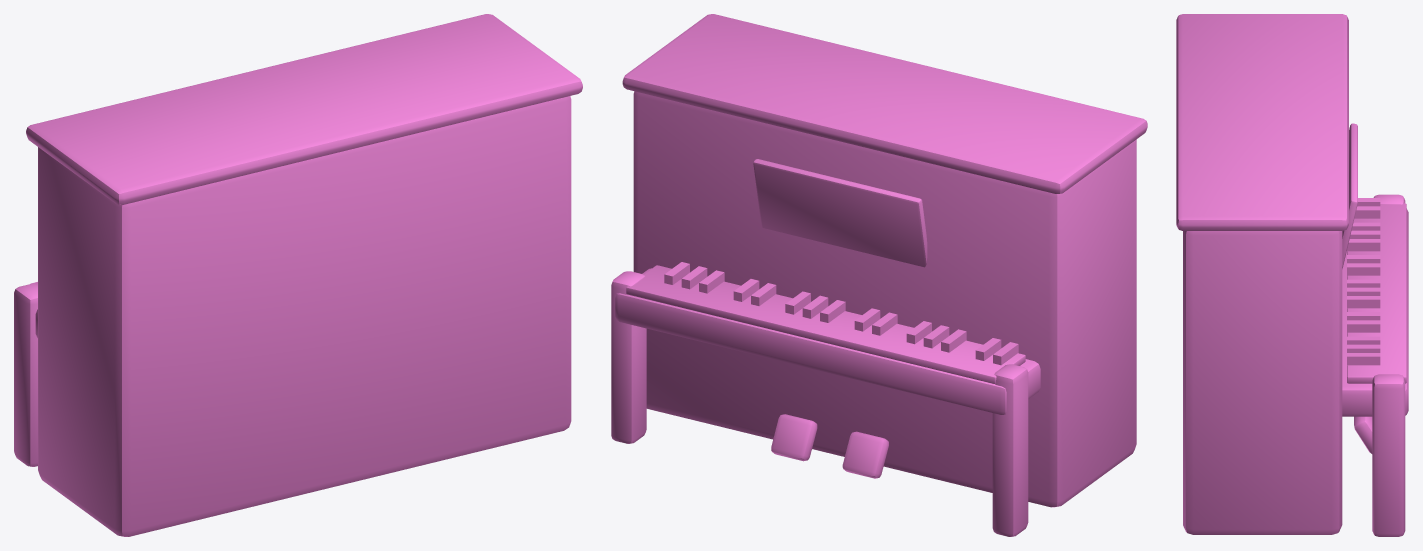
The model's file is Parcel_Piano.fbx.
3 renders of one model, left to right at view 1: azimuth 30°, elevation 25°; view 2: azimuth 150°, elevation 25°; view 3: azimuth 270°, elevation 25°, orthographic. The views are drawn at different scales.
Visible parts, largest first — view 1: Parcel; view 2: Parcel; view 3: Parcel.
Boxes of the visible parts, left/top/right/bottom form: Parcel: left=14, top=14, right=582, bottom=536; Parcel: left=611, top=14, right=1147, bottom=536; Parcel: left=1176, top=14, right=1408, bottom=536.
Bounding box in the file's own units: 3.7 × 2.73 × 1.75.
Materials: 1 (1 with a texture image).
